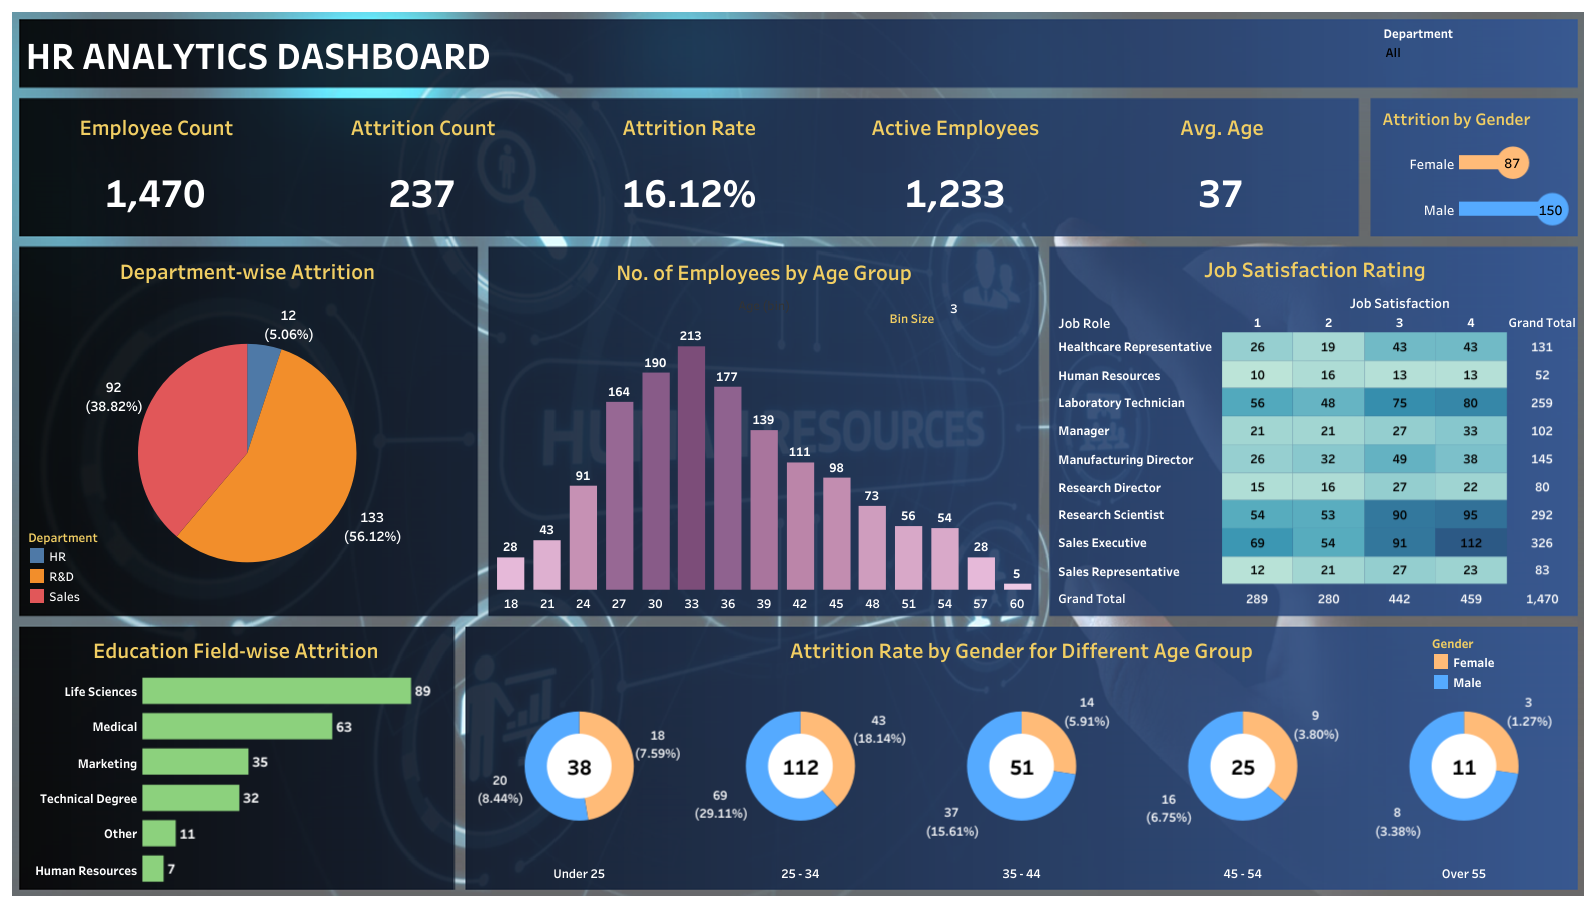

The page's visual inventory and layout, read from the dashboard file:
{"tool":"tableau","page":{"name":"HR Analytics Dashboard","canvas":[1580,900],"ordinal":0},"visuals":[{"type":"image","param":"Image/HR Background. Finalpptx.png","box":[8,8,1564,884]},{"type":"text","box":[23,20,971,66]},{"type":"filter","title":"Department-wise Attrition","param":"[federated.0bjnyo30zbb72m1302e3k02r8t22].[none:Department:nk]","box":[1370,23,194,60]},{"type":"worksheet","title":"Attrition by Gender","mark":"Bar","rows":["Gender"],"cols":["Calculation_1142225463780835328","Calculation_1142225463780835328"],"box":[1365,100,193,130]},{"type":"worksheet","title":"KPI","mark":"Automatic","box":[23,102,1319,128]},{"type":"worksheet","title":"Job Satisfaction Rating","mark":"Square","rows":["Job Role"],"cols":["Job Satisfaction"],"box":[1042,246,520,360]},{"type":"worksheet","title":"Department-wise Attrition","mark":"Pie","box":[22,248,446,358]},{"type":"worksheet","title":"No. of Employees by Age Group","mark":"Automatic","rows":["Employee Count"],"cols":["Age (bin)"],"box":[488,249,537,357]},{"type":"parameter","param":"[Parameters].[Parameter 1]","box":[867,296,157,38]},{"type":"legend","title":"Department-wise Attrition","param":"[federated.0bjnyo30zbb72m1302e3k02r8t22].[none:Department:nk]","box":[27,521,124,79]},{"type":"worksheet","title":"Education Field-wise Attrition","mark":"Automatic","rows":["Education Field"],"cols":["Calculation_1142225463780835328"],"box":[21,623,425,255]},{"type":"worksheet","title":"Attrition Rate by Gender for Different Age Group","mark":"Pie","rows":["Calculation_704250400275517441","Calculation_704250400275517441"],"cols":["CF_age band"],"box":[464,623,1095,250]},{"type":"legend","title":"Attrition Rate by Gender for Different Age Group","param":"[federated.0bjnyo30zbb72m1302e3k02r8t22].[none:Gender:nk]","box":[1417,626,140,58]}]}

Visuals, with their boxes in screenshot pixels (x1, y1, x2, y2), scaled from the page's 1580x900 canvas onto the 1595x908 screenshot:
image: (8,8,1587,900)
text: (23,20,1003,87)
"Department-wise Attrition" filter: (1383,23,1579,84)
"Attrition by Gender" worksheet (Bar marks): (1378,101,1573,232)
"KPI" worksheet: (23,103,1355,232)
"Job Satisfaction Rating" worksheet (Square marks): (1052,248,1577,611)
"Department-wise Attrition" worksheet (Pie marks): (22,250,472,611)
"No. of Employees by Age Group" worksheet: (493,251,1035,611)
parameter: (875,299,1034,337)
"Department-wise Attrition" legend: (27,526,152,605)
"Education Field-wise Attrition" worksheet: (21,629,450,886)
"Attrition Rate by Gender for Different Age Group" worksheet (Pie marks): (468,629,1574,881)
"Attrition Rate by Gender for Different Age Group" legend: (1430,632,1572,690)
